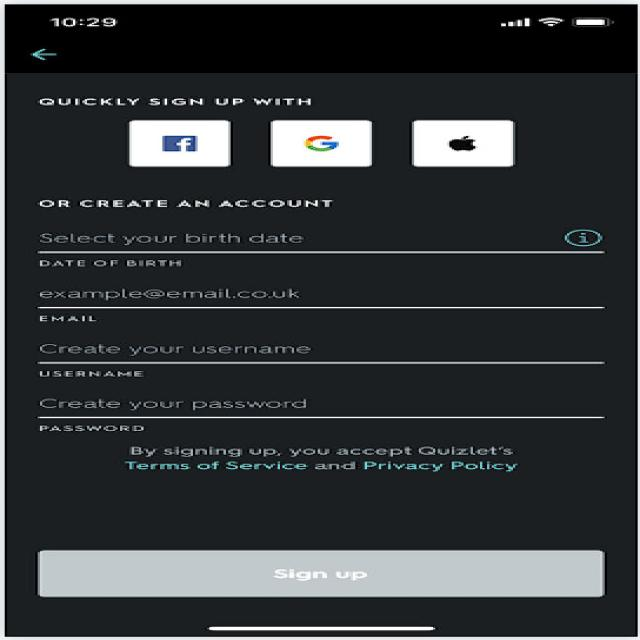button: (30, 540, 614, 612)
icon button: (98, 112, 245, 173), (398, 115, 534, 172), (256, 113, 384, 172), (12, 34, 73, 74)
input: (21, 332, 630, 383), (30, 216, 623, 268), (15, 387, 635, 434), (21, 274, 633, 321)
text: (104, 441, 576, 485)
